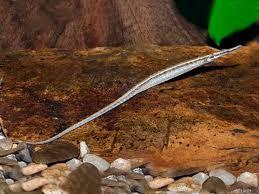Long-Snouted Pipefish: (37, 42, 244, 150)
